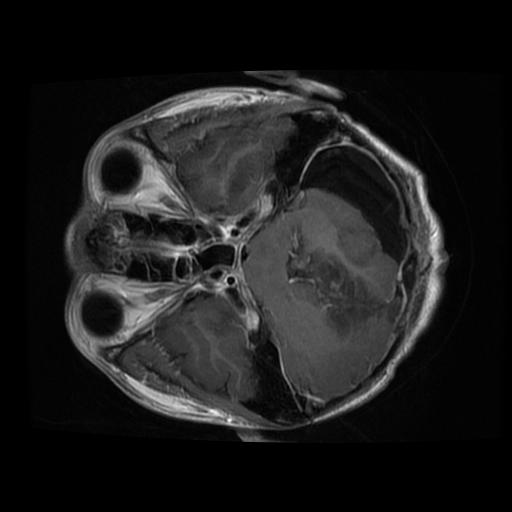glioma: (283, 225, 386, 341)
